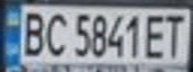1: (121, 11, 145, 57)
4: (106, 11, 127, 58)
5: (69, 9, 93, 57)
8: (90, 10, 109, 58)
B: (15, 7, 48, 57)
C: (42, 9, 69, 58)
E: (142, 10, 169, 60)
T: (160, 10, 190, 58)
